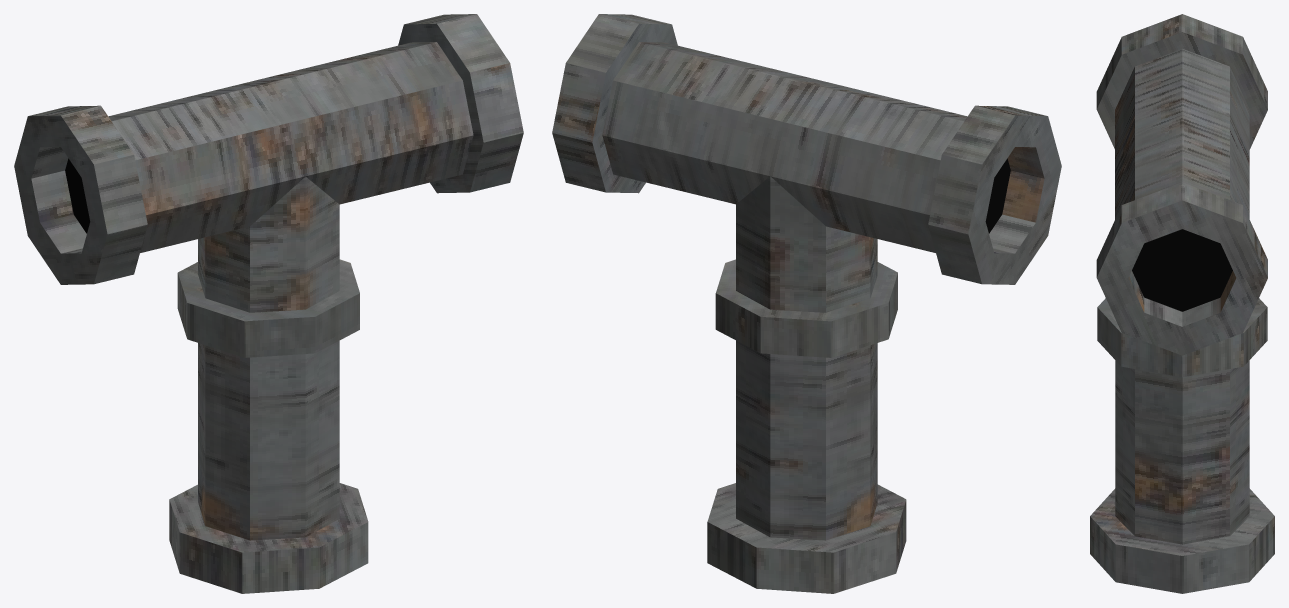
The model's file is kerning_small_pipe_1.gltf.
3 renders of one model, left to right at view 1: azimuth 30°, elevation 25°; view 2: azimuth 150°, elevation 25°; view 3: azimuth 270°, elevation 25°, orthographic. The views are drawn at different scales.
Parts seen in each view (by area): view 1: SmallPipe1; view 2: SmallPipe1; view 3: SmallPipe1.
Part boxes in pixels (x1=…): SmallPipe1: x1=14, y1=14, x2=523, y2=593; SmallPipe1: x1=552, y1=14, x2=1061, y2=593; SmallPipe1: x1=1090, y1=14, x2=1274, y2=593.
Bounding box in the file's own units: 6.55 × 7.33 × 2.75.
1 material, 1 textured.
